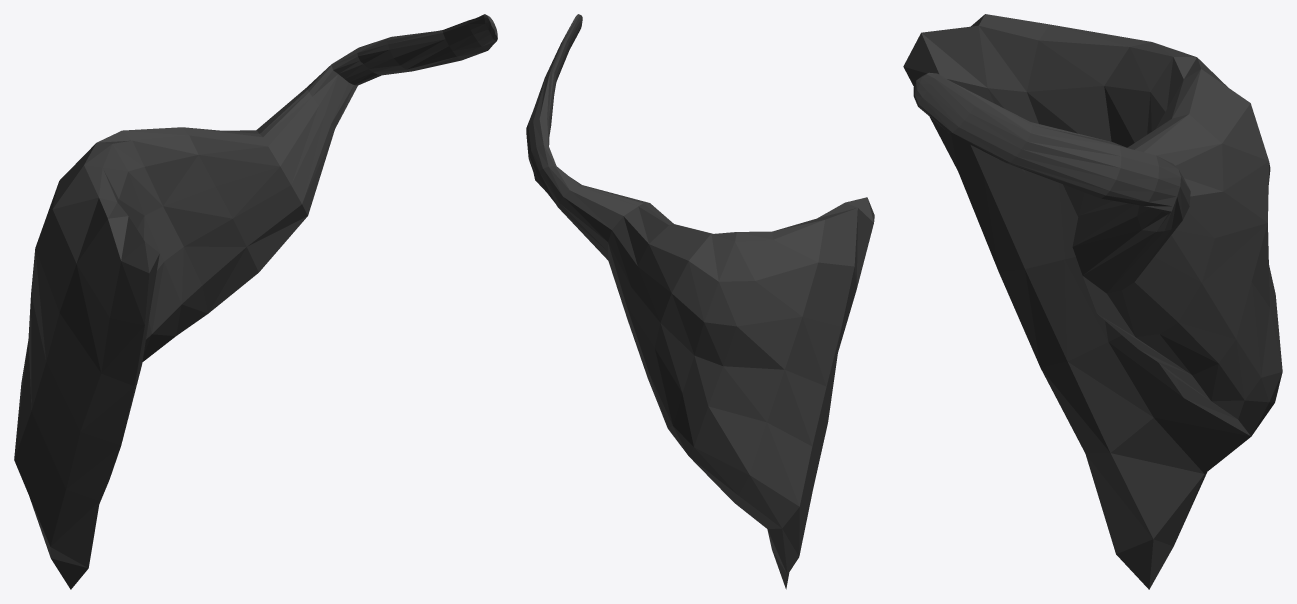
The model's file is Popliteus.glb.
The picture shows the model from 3 angles, left to right: view 1: azimuth 30°, elevation 25°; view 2: azimuth 150°, elevation 25°; view 3: azimuth 270°, elevation 25°; orthographic projection. The views are drawn at different scales.
Visible parts, largest first — view 1: Popliteus; view 2: Popliteus; view 3: Popliteus.
Boxes of the visible parts, <box> form: Popliteus: <box>14,14,497,589</box>; Popliteus: <box>526,14,874,589</box>; Popliteus: <box>903,14,1282,589</box>.
Size of the model in its own units: 1.58 by 2.18 by 1.02.
Materials: 1 (1 with a texture image).
